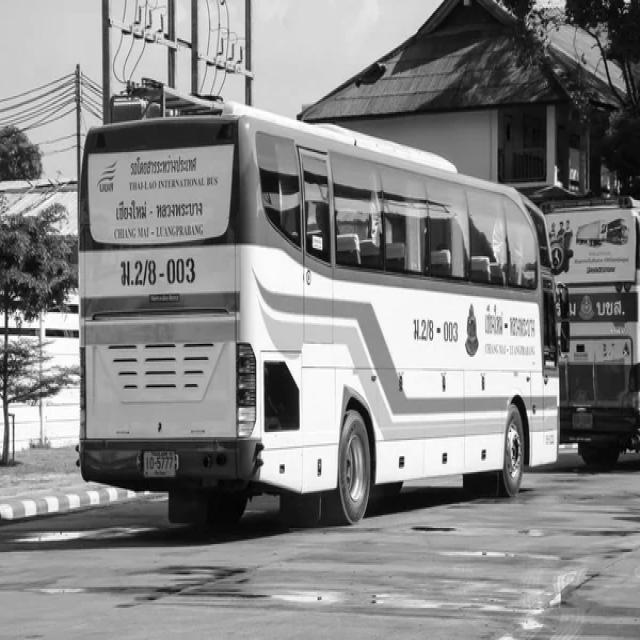Bus: (70, 124, 572, 508)
